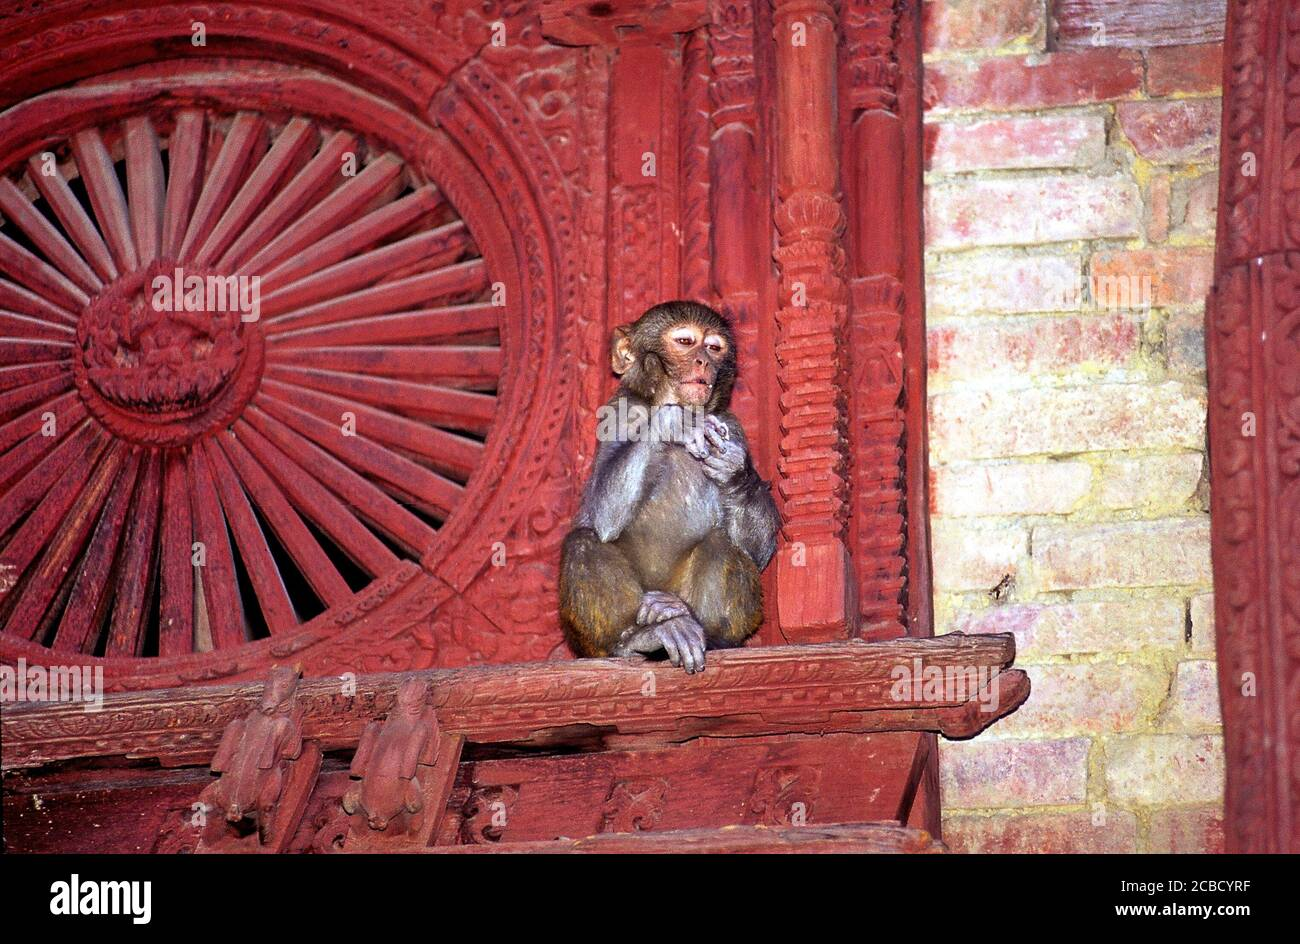monkey: (551, 293, 787, 711)
